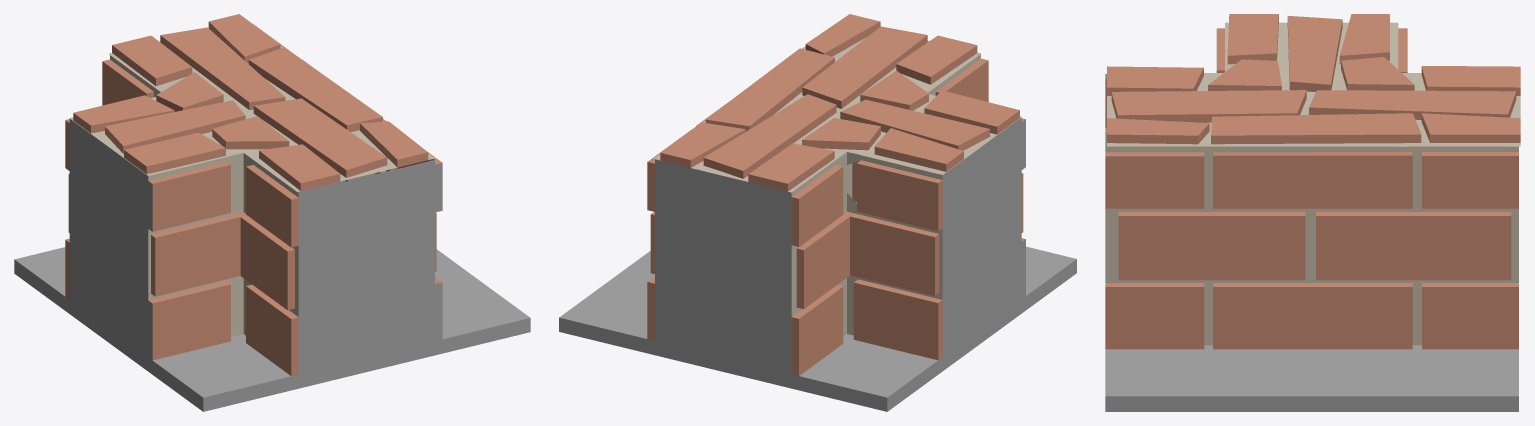
The model's file is wall_t.fbx.
The picture shows the model from 3 angles, left to right: view 1: azimuth 30°, elevation 25°; view 2: azimuth 150°, elevation 25°; view 3: azimuth 270°, elevation 25°; orthographic projection. The views are drawn at different scales.
Visible parts, largest first — view 1: pCube23, pCube22, pCube8, pCube24, pCube7, pPlane21; view 2: pCube23, pCube22, pCube8, pCube24, pCube7, pPlane21; view 3: pCube23, pCube8, pCube24, pCube7, pPlane21, pCube22.
Part boxes in pixels (bbox=[...]): pCube23: bbox=[102, 25, 442, 375]; pCube22: bbox=[65, 119, 375, 360]; pCube8: bbox=[108, 14, 434, 191]; pCube24: bbox=[14, 247, 530, 411]; pCube7: bbox=[73, 72, 289, 174]; pPlane21: bbox=[69, 97, 243, 175]; pCube23: bbox=[647, 41, 988, 375]; pCube22: bbox=[844, 117, 1025, 360]; pCube8: bbox=[653, 14, 980, 192]; pCube24: bbox=[559, 246, 1076, 411]; pCube7: bbox=[802, 70, 1019, 171]; pPlane21: bbox=[847, 94, 1021, 174]; pCube23: bbox=[1105, 74, 1518, 349]; pCube8: bbox=[1107, 66, 1520, 146]; pCube24: bbox=[1105, 345, 1518, 411]; pCube7: bbox=[1208, 14, 1414, 91]; pPlane21: bbox=[1225, 22, 1398, 72]; pCube22: bbox=[1216, 28, 1407, 146].
Bounding box in the file's own units: 24.02 × 14.3 × 24.1.
